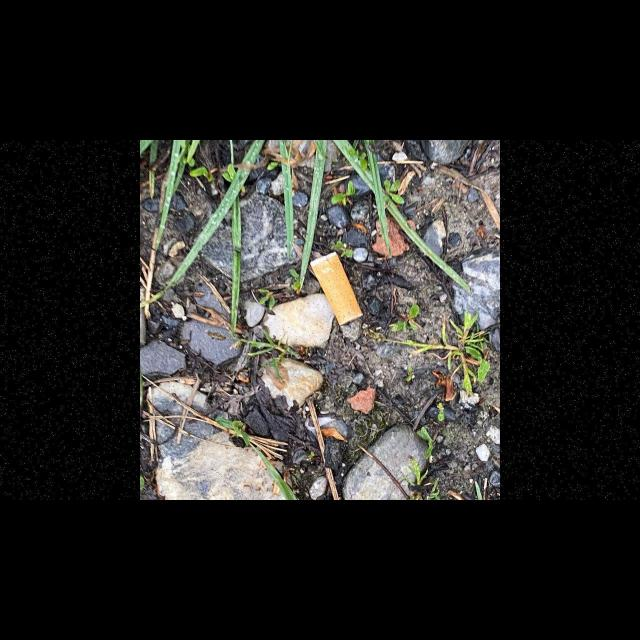cigarette: (310, 250, 364, 326)
